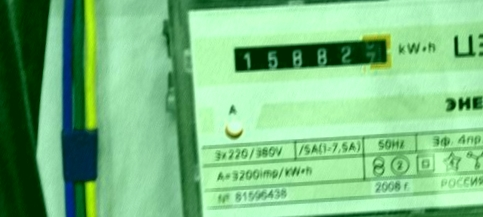1: (240, 49, 253, 68)
2: (339, 43, 352, 63)
5: (265, 48, 278, 68)
7: (364, 50, 376, 64)
8: (290, 46, 303, 68), (315, 45, 328, 67)
screen: (225, 28, 401, 80)
